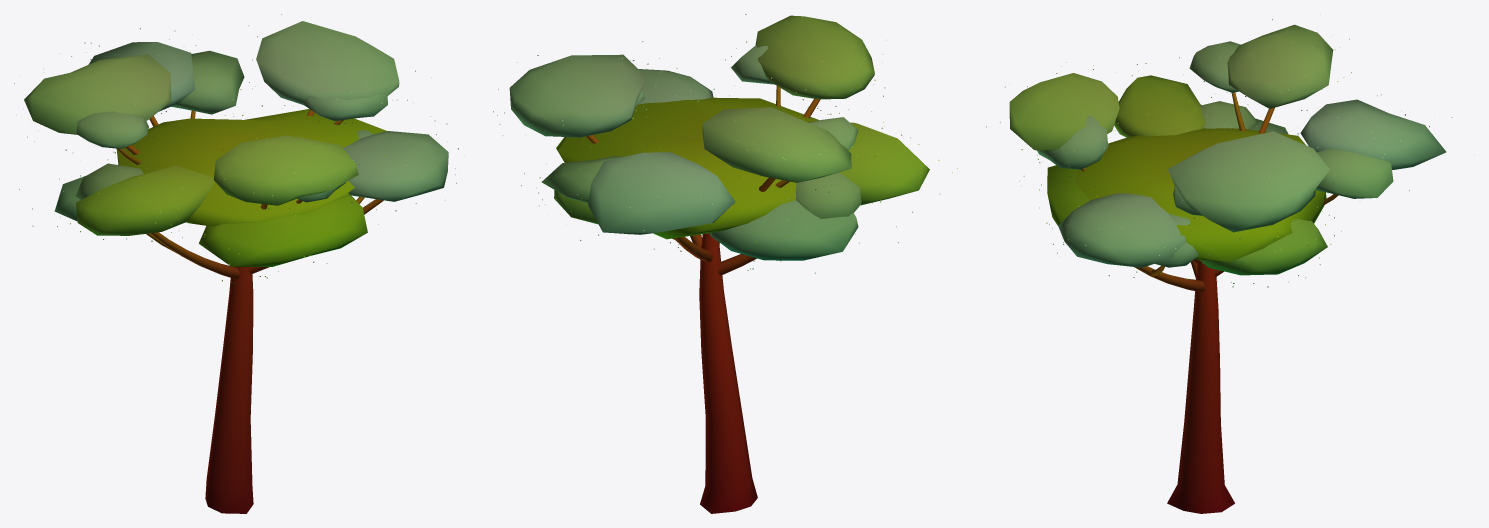
The model's file is card_umbrella.glb.
3 renders of one model, left to right at view 1: azimuth 30°, elevation 25°; view 2: azimuth 150°, elevation 25°; view 3: azimuth 270°, elevation 25°, orthographic. The views are drawn at different scales.
Parts seen in each view (by area): view 1: card_umbrella_LOD0; view 2: card_umbrella_LOD0; view 3: card_umbrella_LOD0.
Boxes of the visible parts, bbox=[...] form: card_umbrella_LOD0: bbox=[14, 14, 464, 513]; card_umbrella_LOD0: bbox=[493, 14, 957, 513]; card_umbrella_LOD0: bbox=[986, 14, 1452, 513].
Size of what is drawn, in the model's own units: 7.71 by 7.98 by 8.26.
